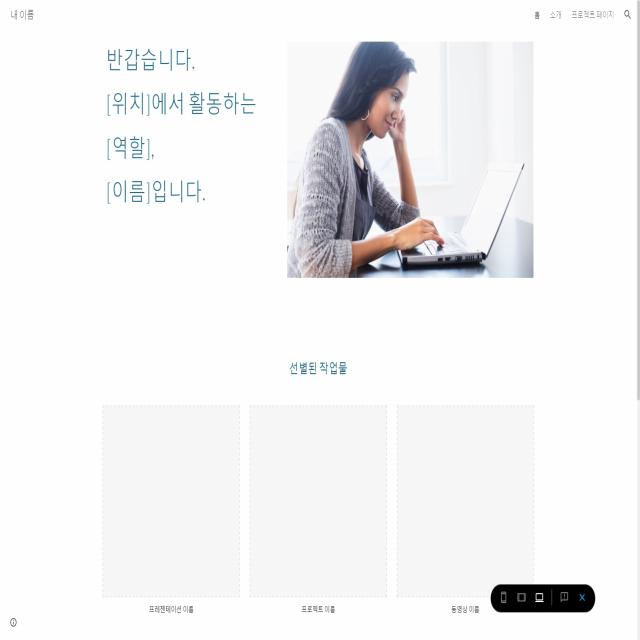menu-bar: (529, 2, 636, 28)
